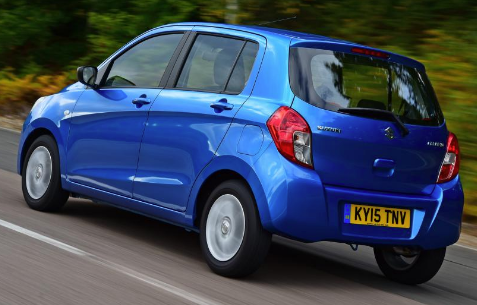car: (16, 20, 464, 287)
